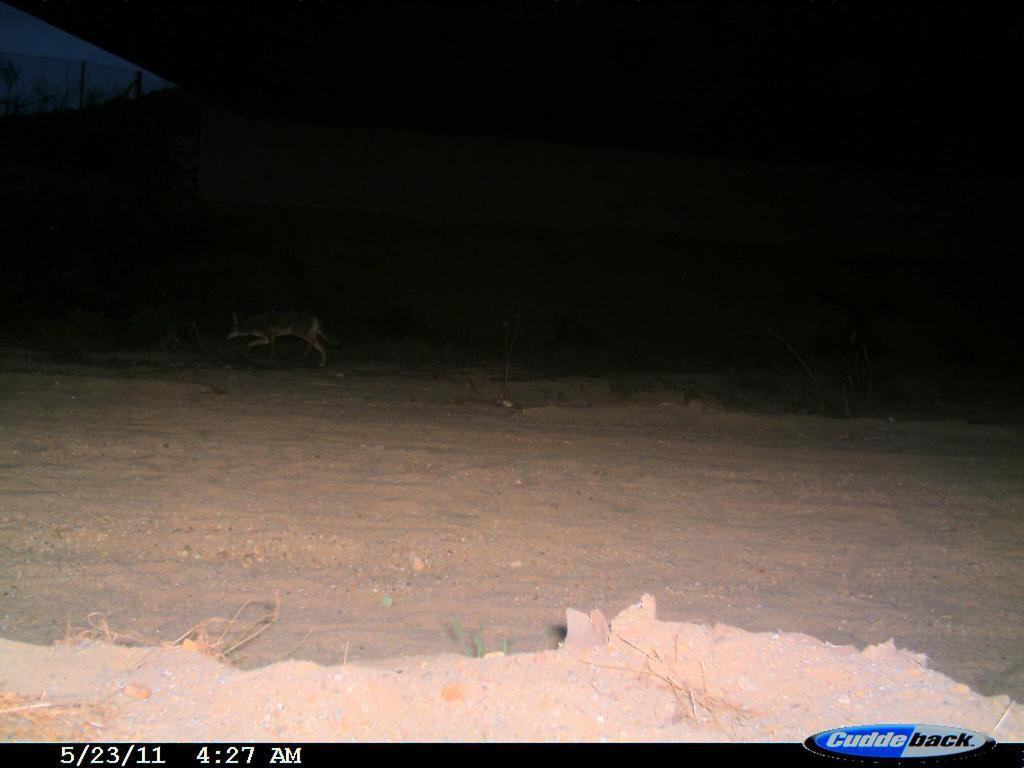coyote: (218, 292, 370, 385)
